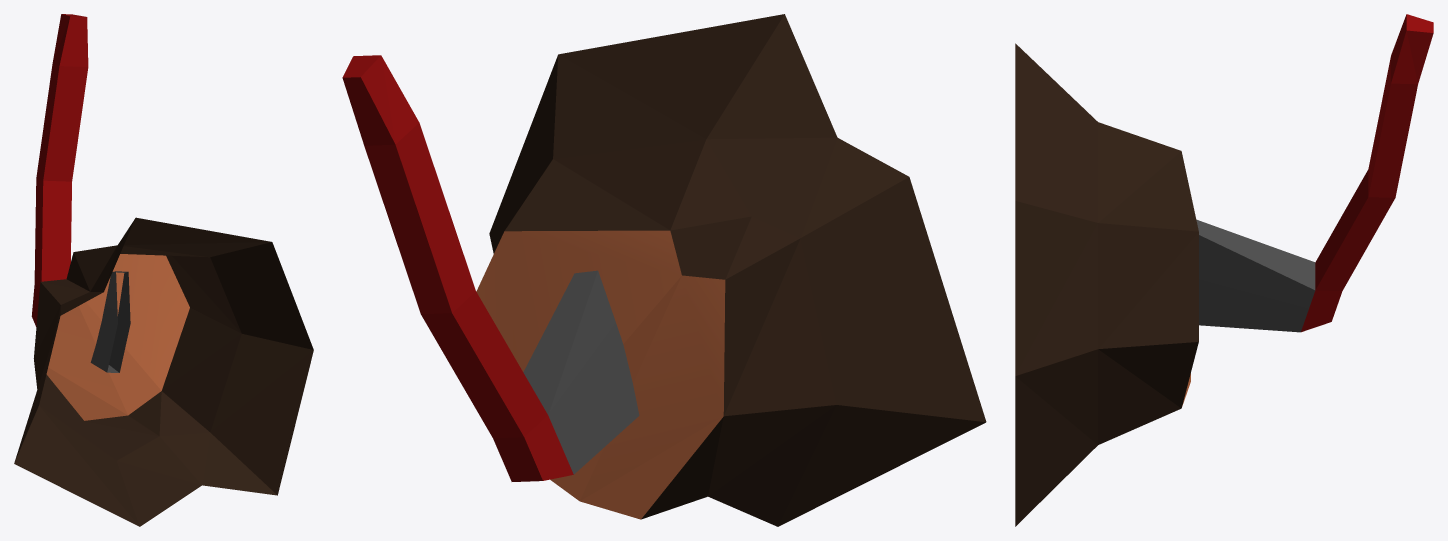
Rendered from Stump_02.FBX.
3 views of the same model, side by side, from view 1: azimuth 30°, elevation 25°; view 2: azimuth 150°, elevation 25°; view 3: azimuth 270°, elevation 25° (orthographic). The views are drawn at different scales.
Parts seen in each view (by area): view 1: Stump_02; view 2: Stump_02; view 3: Stump_02.
Part boxes in pixels (x1,y1,x2,y2): Stump_02: (14,14,313,526); Stump_02: (342,14,986,526); Stump_02: (1015,14,1433,526).
Size of the model in its own units: 1.88 by 2.27 by 1.79.
